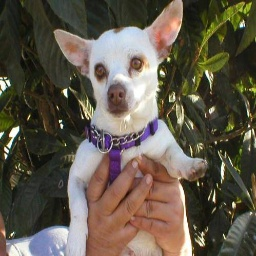dog: (49, 6, 209, 241)
